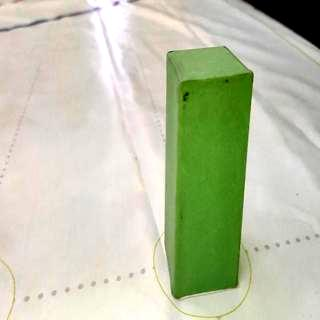greenbox: (167, 45, 253, 298)
